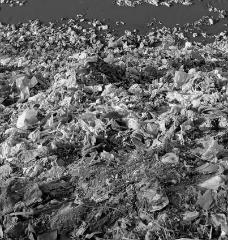general: (145, 188, 171, 212), (94, 195, 110, 203)
plastic: (204, 136, 224, 164), (16, 109, 37, 127), (131, 130, 147, 140)
